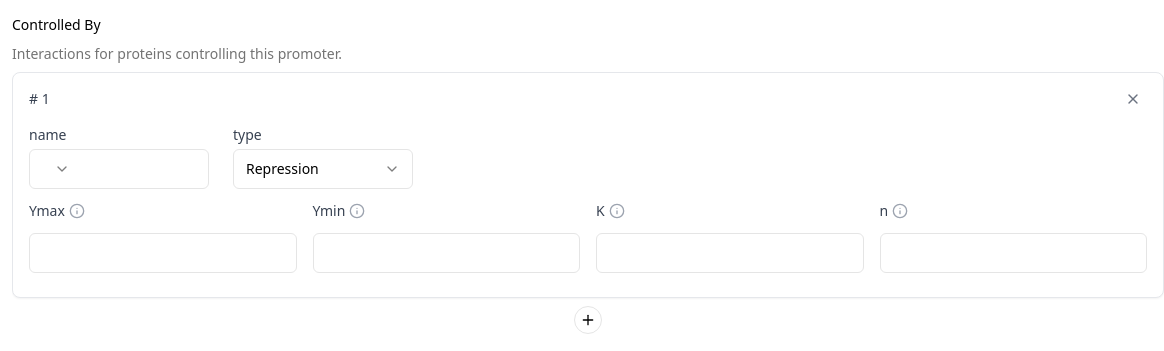
ControlFields Component › allows removing a control field
Click the button with test id "field-array-remove-button" at (1133, 99), box [1119,85,1147,113]
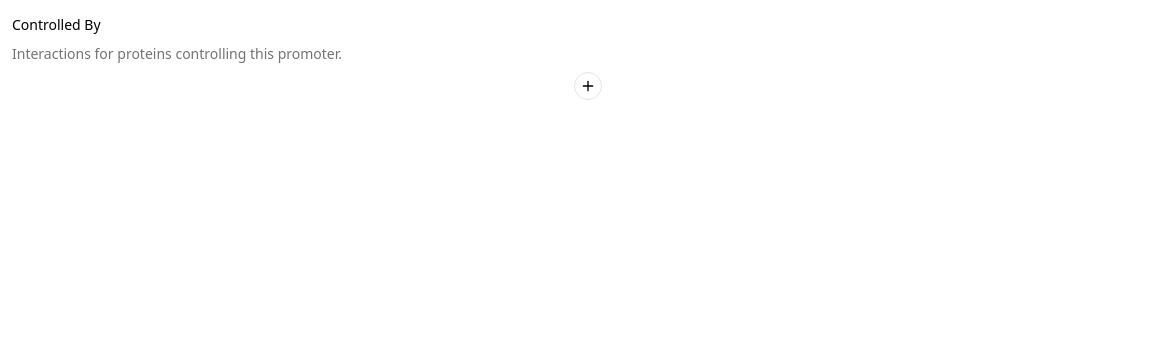
Expected: the text "# 1." is gone
